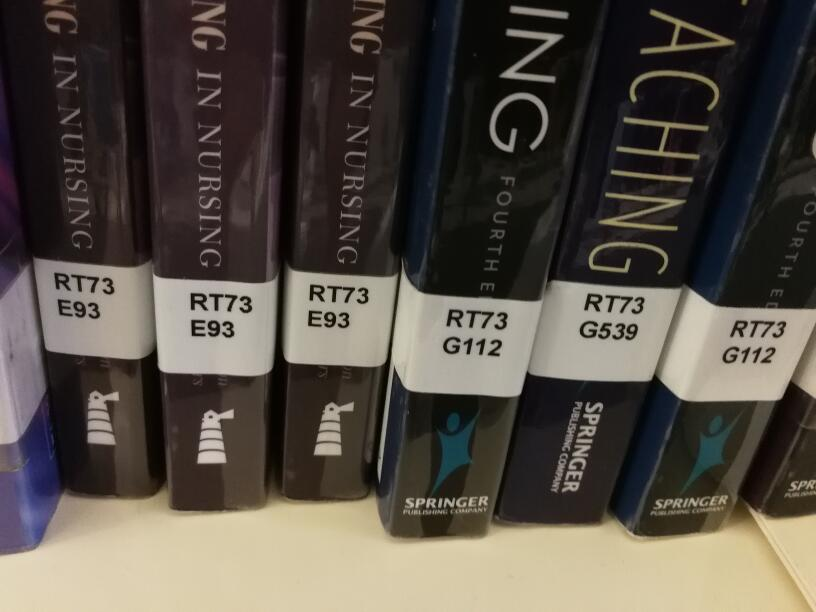booklabel: (439, 305, 510, 360), (576, 291, 648, 343), (51, 268, 117, 323), (185, 289, 256, 340), (720, 317, 787, 368), (305, 281, 371, 331)
